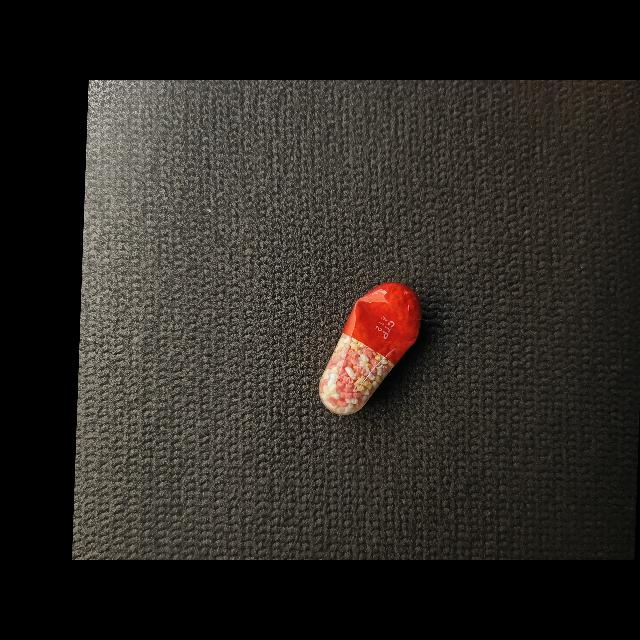Defective Capsule: (319, 282, 422, 415)
